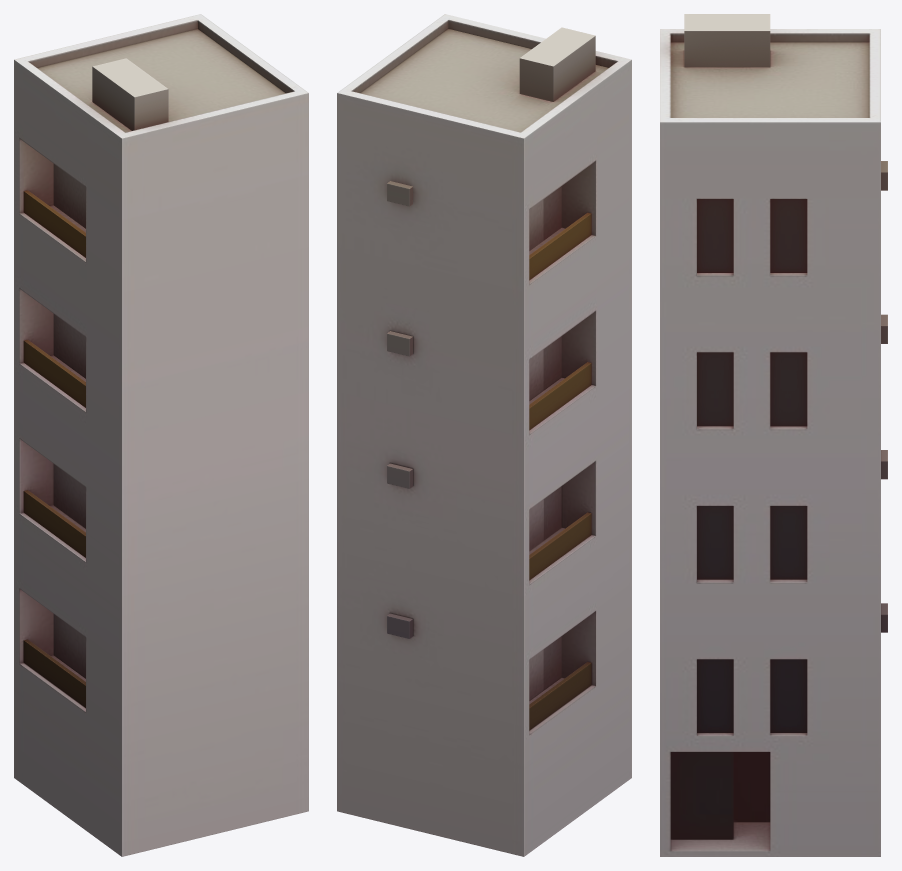
The model's file is edificio-1.glb.
3 renders of one model, left to right at view 1: azimuth 30°, elevation 25°; view 2: azimuth 150°, elevation 25°; view 3: azimuth 270°, elevation 25°, orthographic. The views are drawn at different scales.
Parts seen in each view (by area): view 1: Edificio 1.001, muros, Techo de edificio 1; view 2: Edificio 1.001, muros, Techo de edificio 1, ventilacion; view 3: Edificio 1.001, Ventanas, Techo de edificio 1, ventilacion.
Boxes of the visible parts, box(x1,y1,x2,y2) form: Edificio 1.001: box(14, 14, 308, 856); muros: box(23, 190, 85, 707); Techo de edificio 1: box(92, 58, 168, 130); Edificio 1.001: box(337, 14, 631, 856); muros: box(529, 212, 591, 730); Techo de edificio 1: box(519, 27, 595, 101); ventilacion: box(387, 181, 412, 638); Edificio 1.001: box(660, 29, 880, 856); Ventanas: box(697, 199, 807, 732); Techo de edificio 1: box(684, 14, 770, 67); ventilacion: box(881, 161, 887, 632).
Bounding box in the file's own units: 2 × 7.62 × 2.06.
5 materials, 5 textured.
